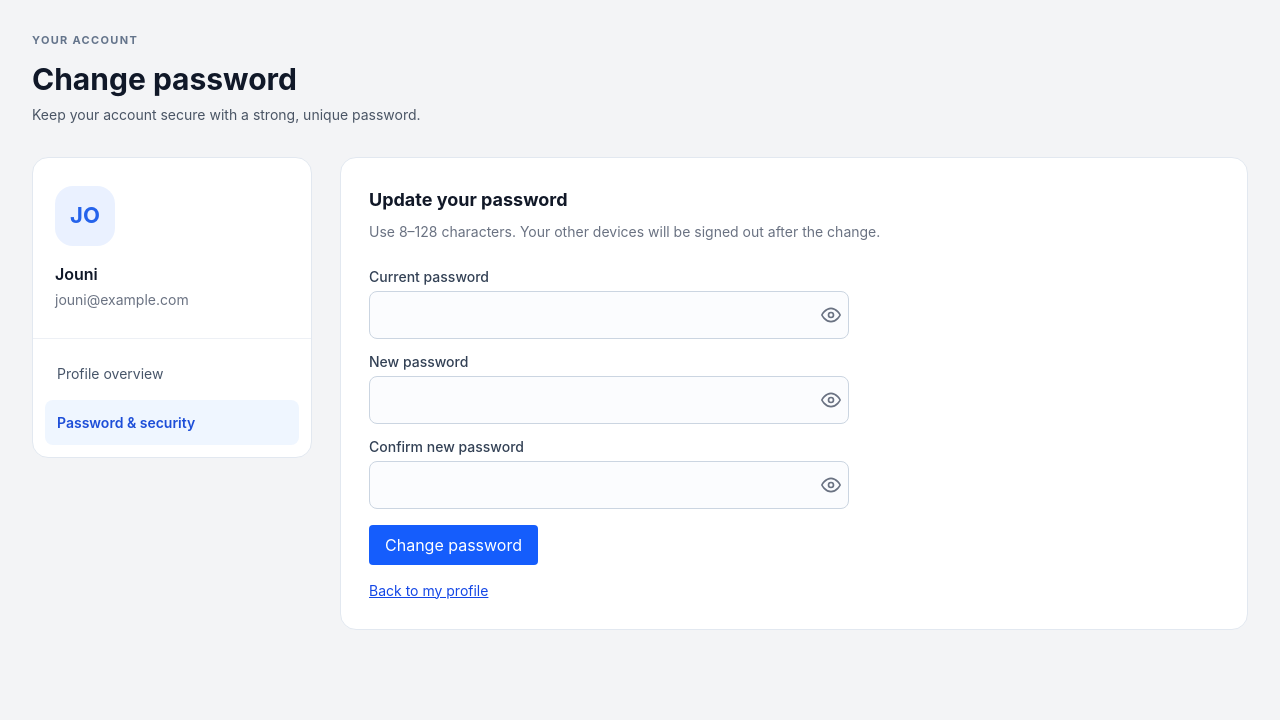
Test: rejects mismatching passwords before sending a request
Type "oldpassword123" into the password field labelled "Current password" at coordinates (609, 314), box top-left (369, 290), bottom-right (849, 338)
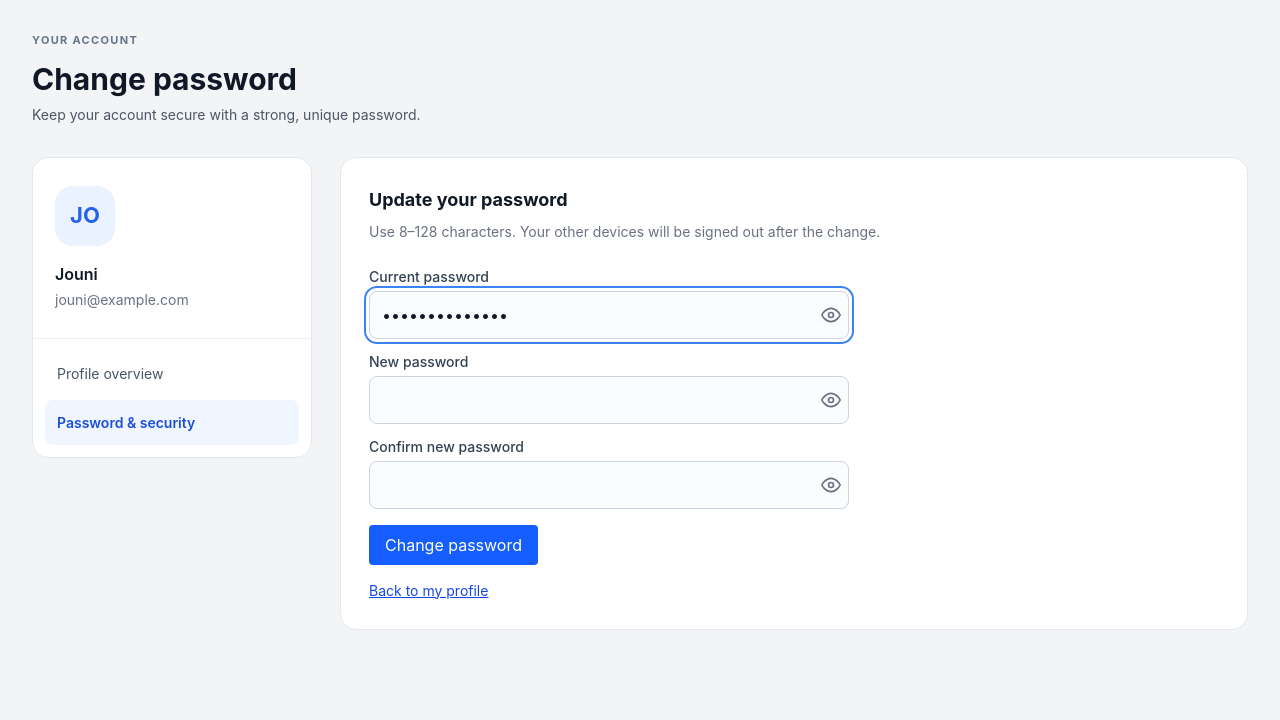
Type "newpassword123" into the password field labelled "New password" at coordinates (609, 400), box top-left (369, 376), bottom-right (849, 424)
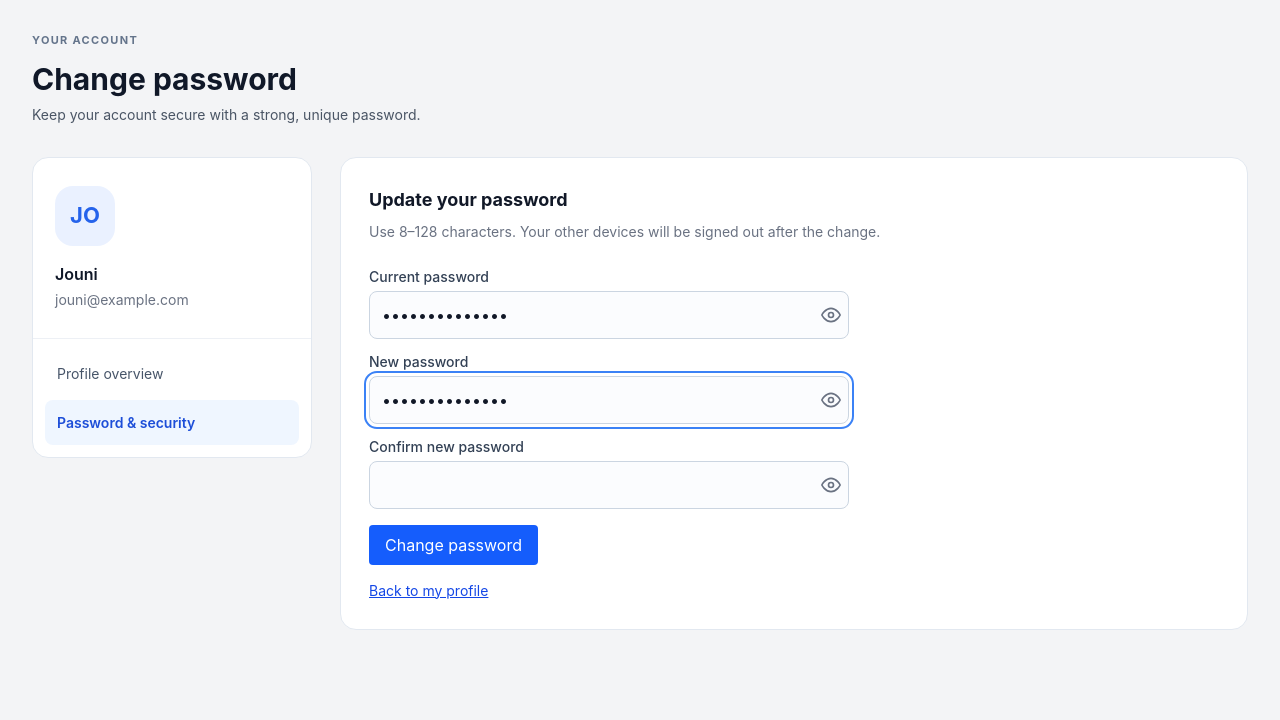
Type "differentpassword" into the password field labelled "Confirm new password" at coordinates (609, 484), box top-left (369, 460), bottom-right (849, 508)
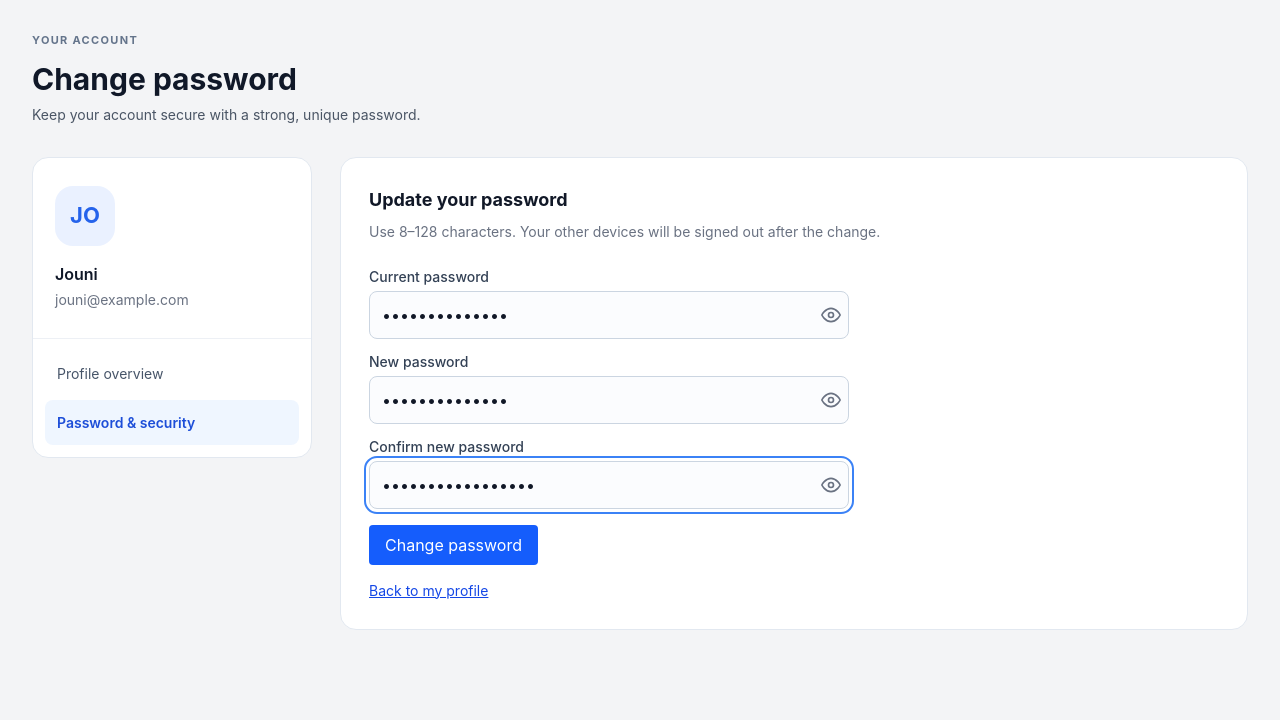
Click the button "Change password" at coordinates (454, 544), box top-left (369, 524), bottom-right (538, 564)
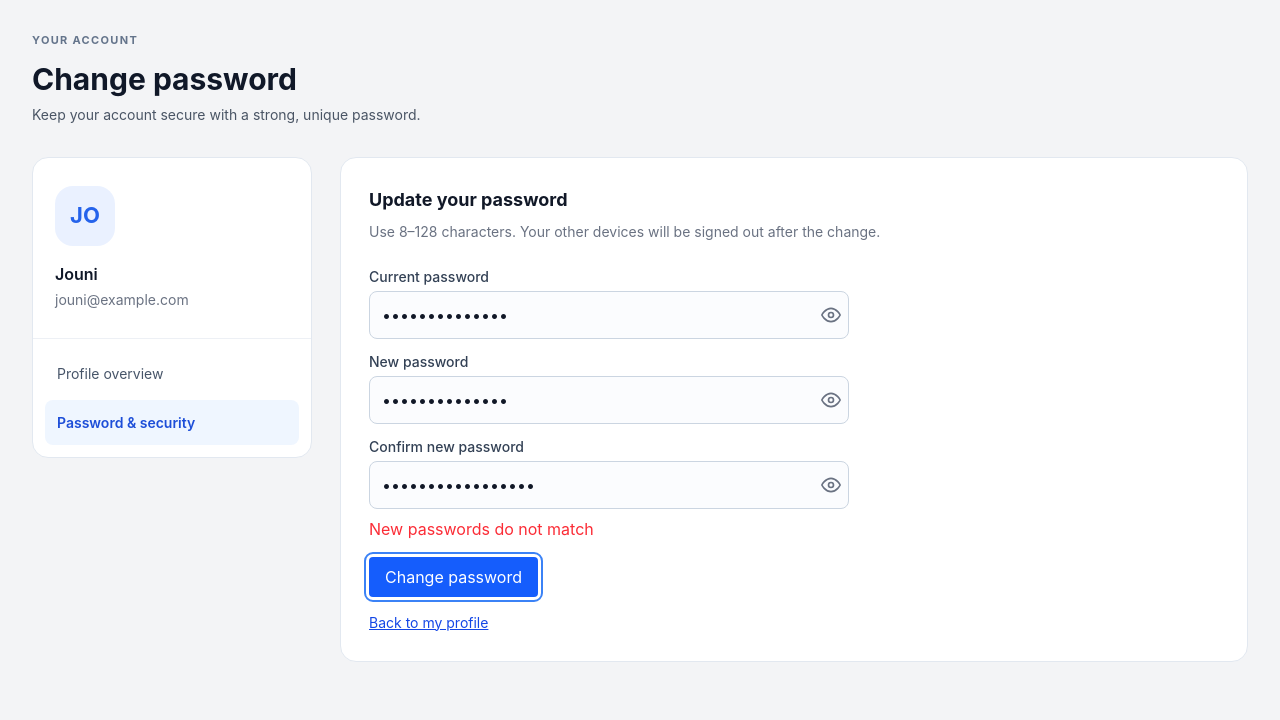
Now the message reads "New passwords do not match", box top-left (369, 518), bottom-right (594, 538)
